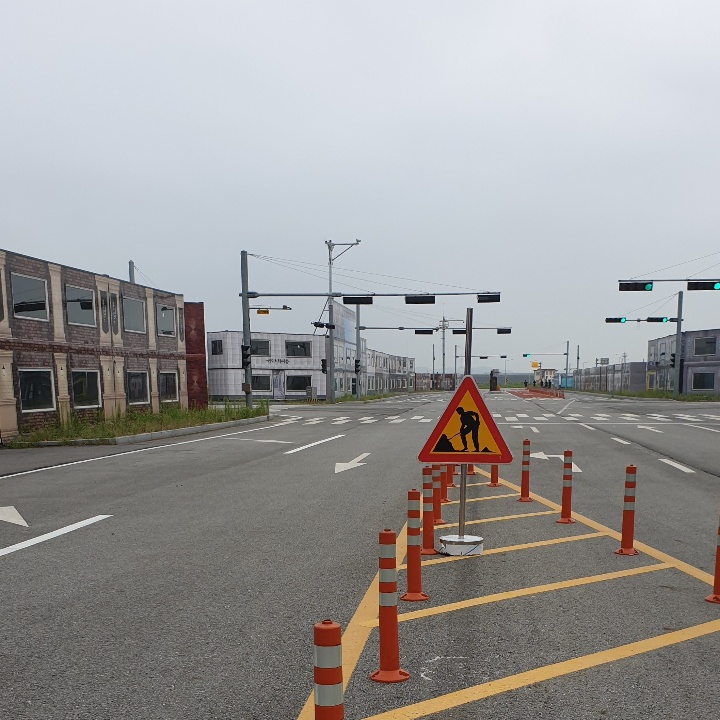const: (431, 397, 499, 457)
